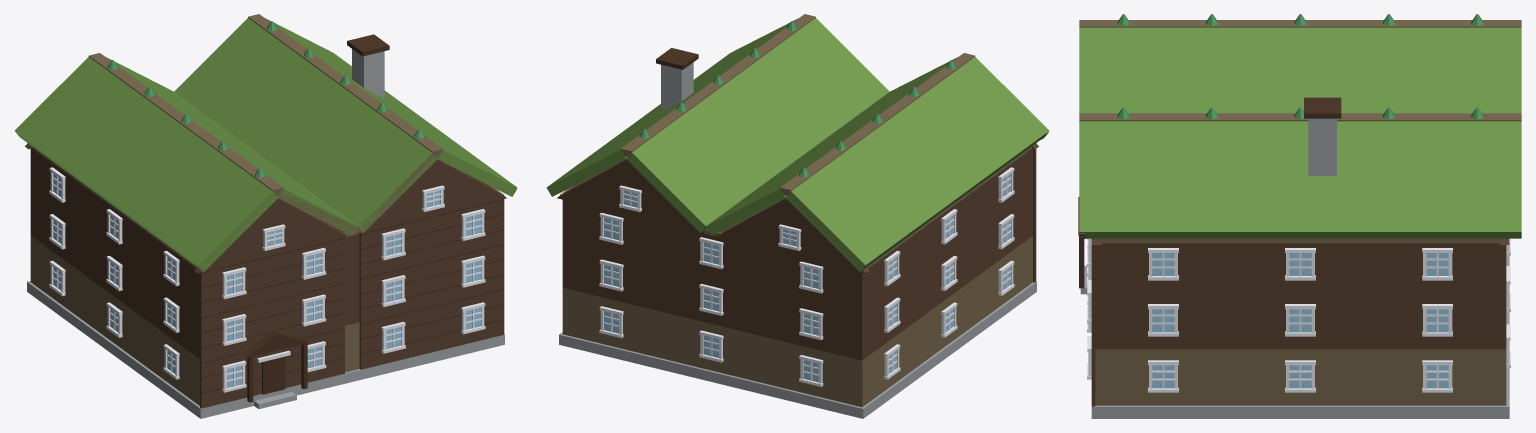
The model's file is house-2x2-3f-turf-a.glb.
3 renders of one model, left to right at view 1: azimuth 30°, elevation 25°; view 2: azimuth 150°, elevation 25°; view 3: azimuth 270°, elevation 25°, orthographic. The views are drawn at different scales.
Visible parts, largest first — view 1: house-2x2-3f-turf-a; view 2: house-2x2-3f-turf-a; view 3: house-2x2-3f-turf-a.
Boxes of the visible parts, x1,y1,x2,y2 form: house-2x2-3f-turf-a: (14,14,517,418); house-2x2-3f-turf-a: (546,14,1049,418); house-2x2-3f-turf-a: (1078,14,1521,418).
Bounding box in the file's own units: 2 × 1.45 × 2.
1 material, 1 textured.
